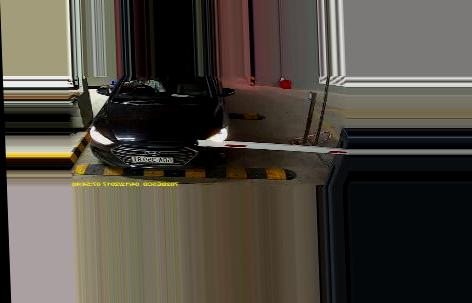License_Plate: (131, 153, 173, 165)
